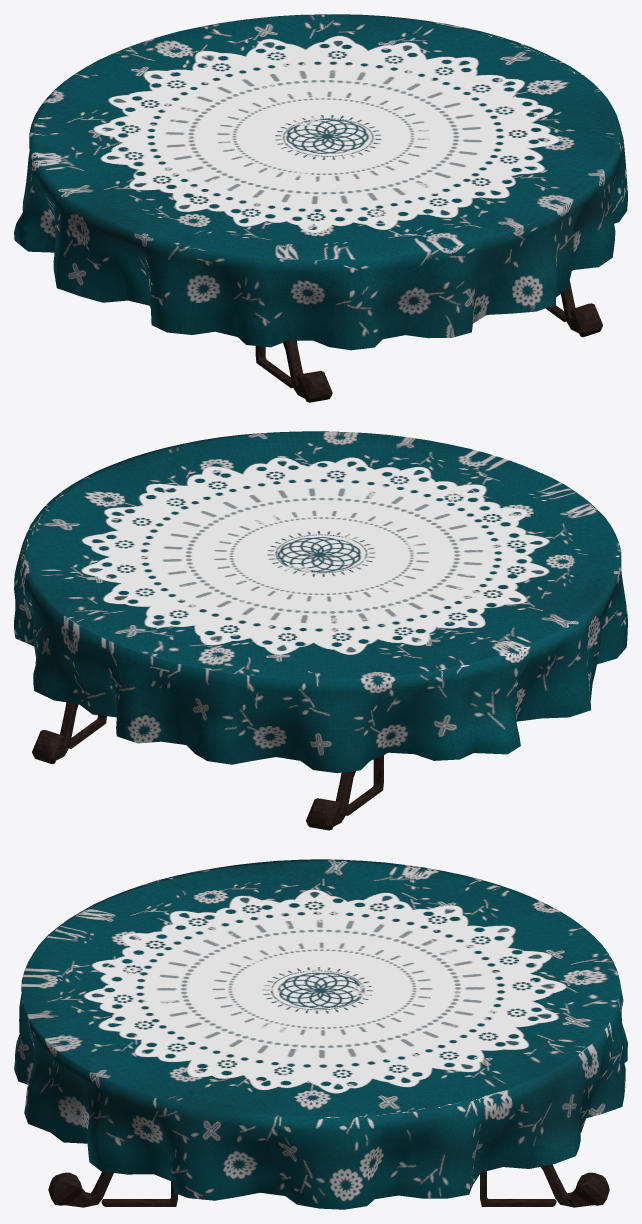
The model's file is MSG_Lr_roundtable_2.FBX.
3 renders of one model, top to bottom at view 1: azimuth 30°, elevation 25°; view 2: azimuth 150°, elevation 25°; view 3: azimuth 270°, elevation 25°, orthographic. The views are drawn at different scales.
Visible parts, largest first — view 1: Plane012; view 2: Plane012; view 3: Plane012.
Part boxes in pixels (box(x1,y1,x2,y2)): Plane012: box(14, 14, 627, 402); Plane012: box(14, 431, 627, 830); Plane012: box(14, 859, 627, 1209).
Size of the model in its own units: 217 by 55.59 by 210.
